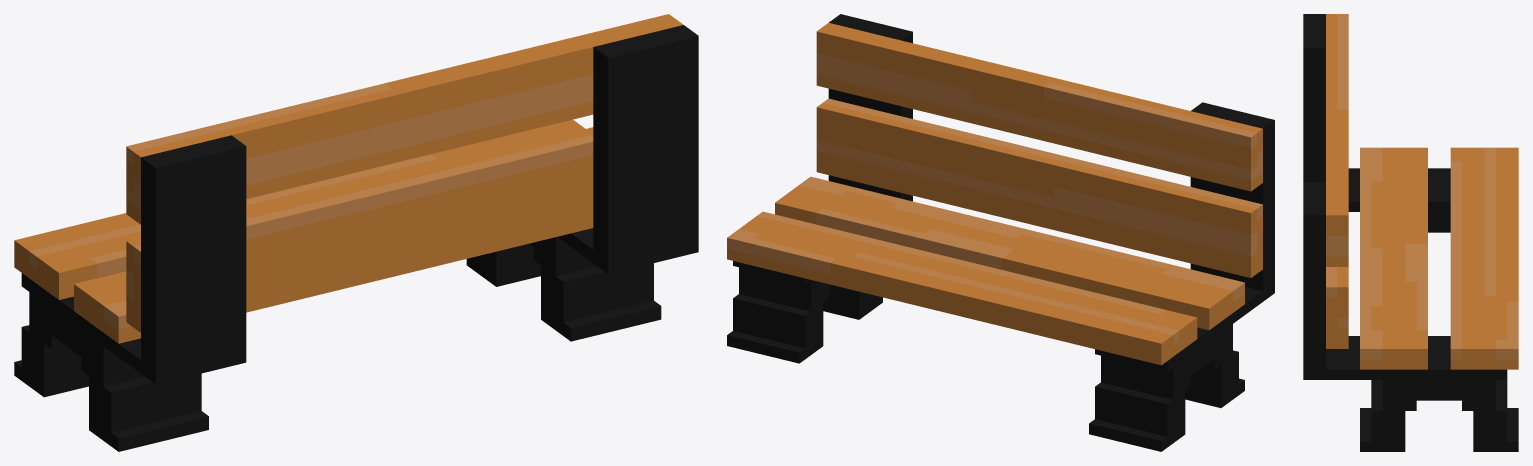
The model's file is bench.obj.
3 views of the same model, side by side, from view 1: azimuth 30°, elevation 25°; view 2: azimuth 150°, elevation 25°; view 3: azimuth 270°, elevation 25° (orthographic). The views are drawn at different scales.
Bounding box in the file's own units: 4.2 × 2.3 × 1.9.
1 material, 1 textured.
